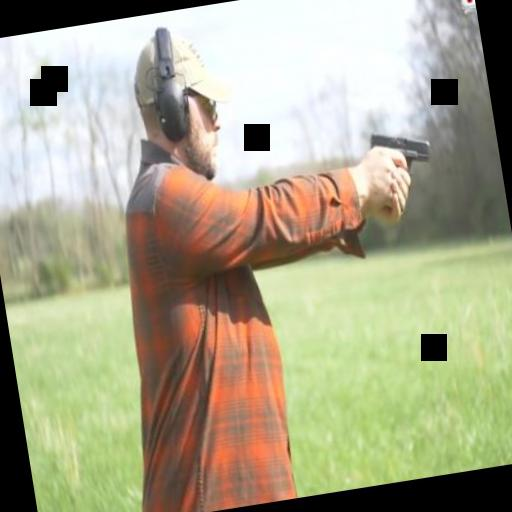Handgun: (362, 122, 440, 208)
